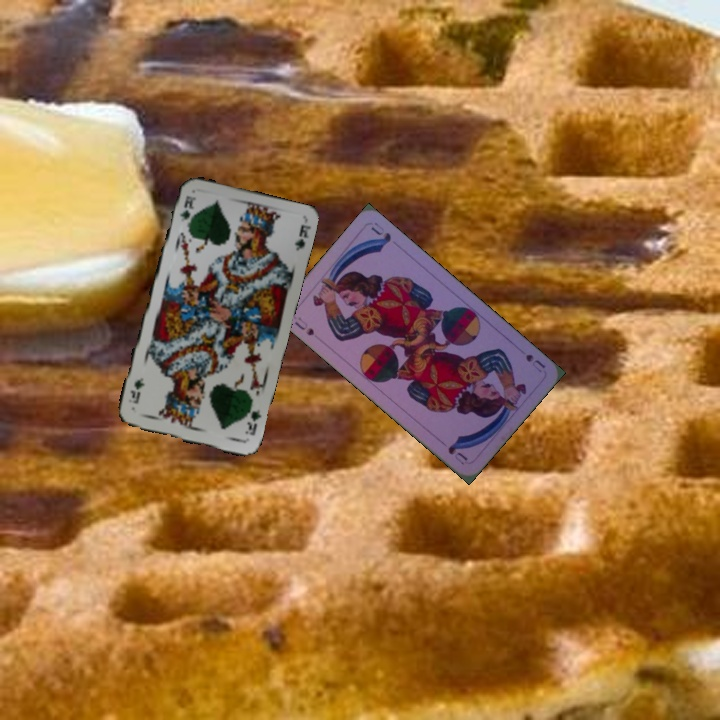GK: (241, 405, 264, 438), (176, 191, 195, 224)
SU: (521, 350, 548, 375), (291, 313, 317, 338)
